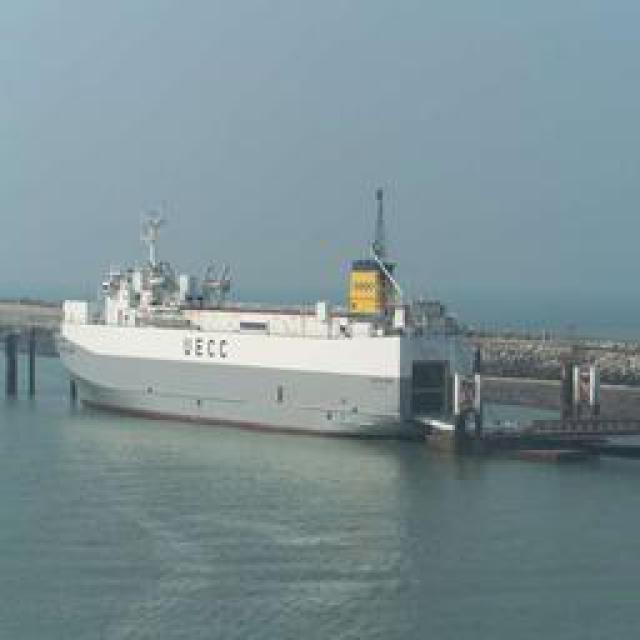Ship: (62, 175, 542, 440)
